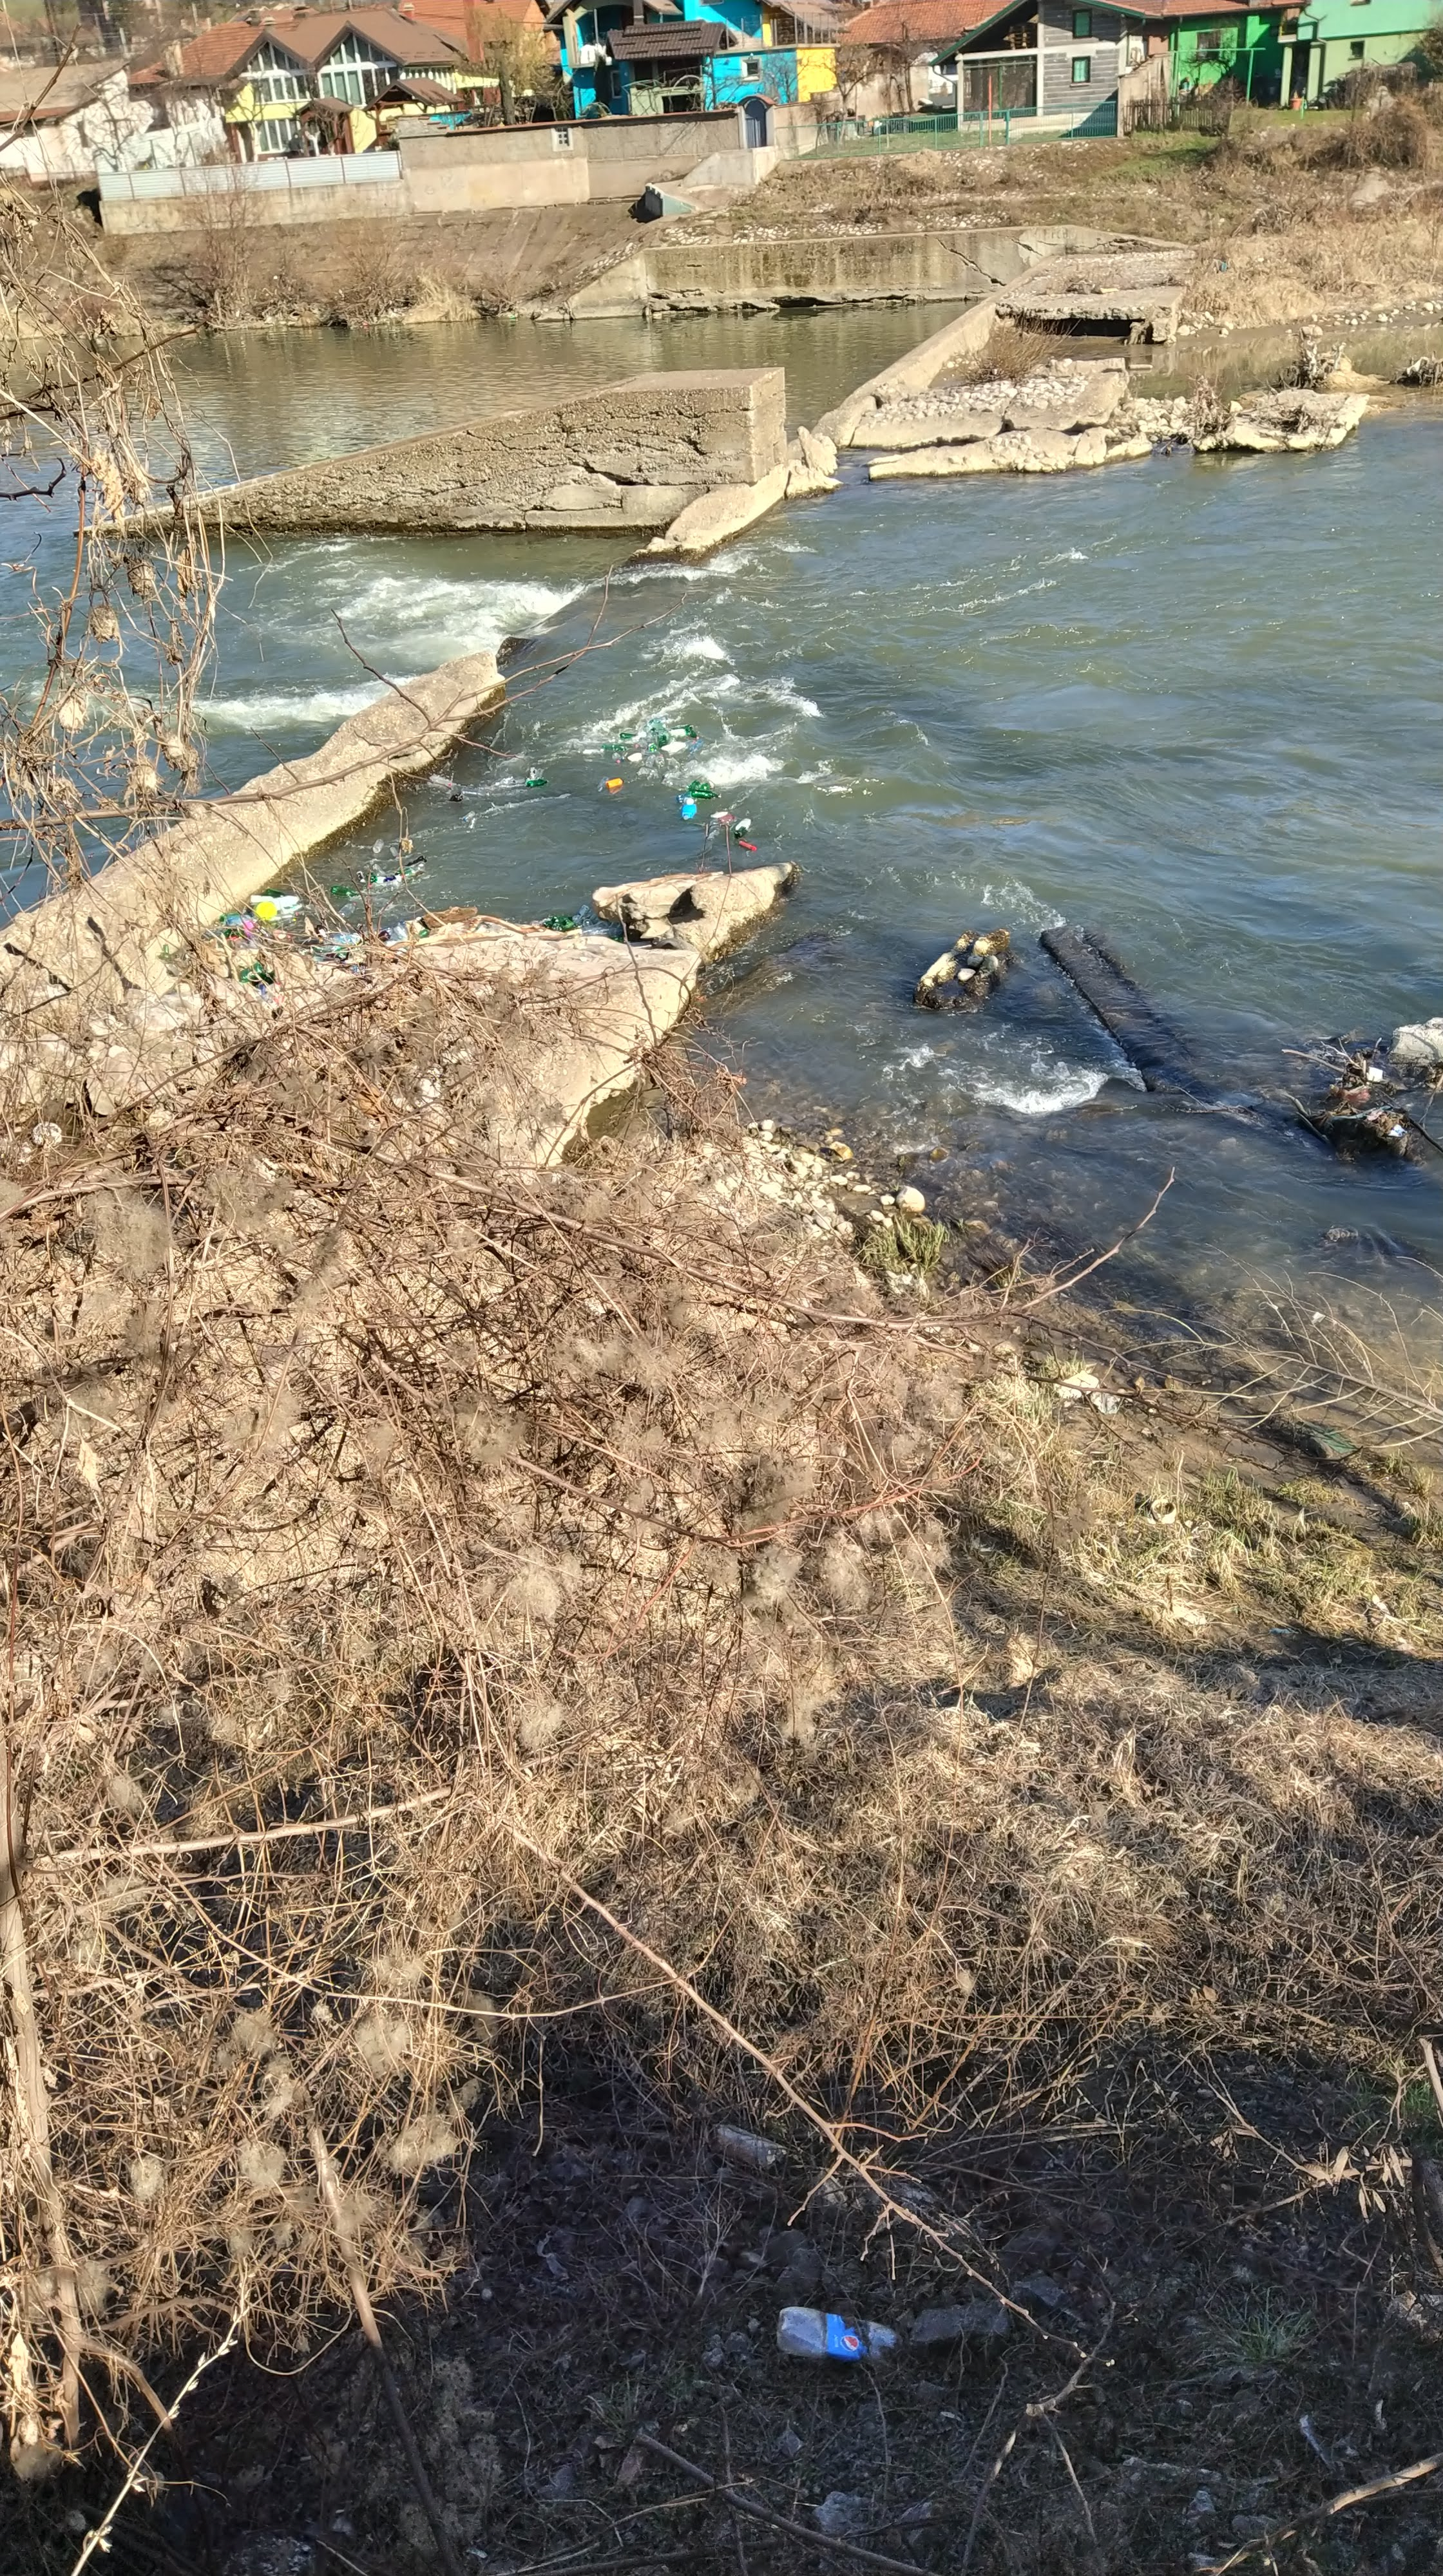Plastic Bottle: (575, 745, 604, 755), (687, 775, 706, 789), (692, 791, 722, 800), (662, 778, 683, 791), (331, 886, 356, 897), (682, 803, 698, 819), (338, 902, 356, 916), (368, 883, 397, 892), (430, 775, 450, 787), (706, 819, 717, 840), (404, 862, 425, 872), (402, 870, 425, 879), (296, 909, 319, 918), (395, 925, 409, 939), (676, 793, 692, 805), (606, 778, 623, 789), (282, 902, 303, 911), (602, 743, 627, 750), (542, 915, 556, 927), (267, 888, 287, 897), (701, 780, 717, 791), (597, 777, 607, 793), (372, 865, 388, 876), (526, 778, 549, 786), (405, 856, 428, 863), (639, 768, 657, 777), (735, 826, 747, 839), (691, 740, 703, 752), (467, 817, 478, 832), (462, 810, 476, 821), (372, 839, 382, 853), (278, 895, 299, 902), (379, 925, 393, 936), (735, 819, 751, 828), (667, 757, 680, 768), (655, 755, 666, 768), (365, 872, 377, 883), (377, 931, 390, 941), (577, 904, 588, 916), (559, 916, 572, 927), (508, 777, 526, 784), (462, 789, 480, 796), (634, 740, 648, 748), (611, 752, 621, 763), (646, 755, 655, 768), (620, 748, 629, 761), (650, 720, 662, 729), (356, 870, 365, 883), (535, 768, 544, 778), (384, 874, 395, 883), (620, 732, 636, 738), (390, 847, 398, 856), (685, 740, 696, 747), (659, 736, 666, 747), (691, 729, 698, 738), (590, 915, 598, 922), (685, 725, 691, 736), (508, 315, 515, 318)
